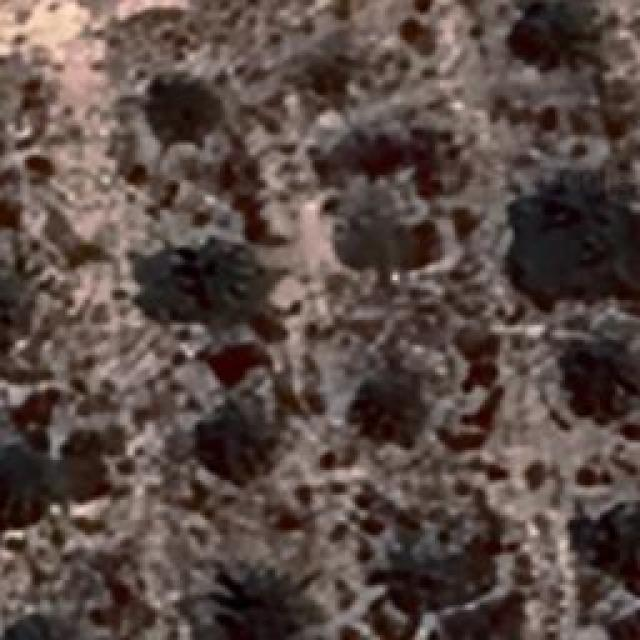PalmTree: (48, 28, 96, 626), (134, 224, 258, 326), (30, 85, 60, 491), (520, 204, 640, 304), (216, 562, 322, 640), (384, 535, 462, 603), (577, 513, 640, 596), (350, 372, 428, 438), (204, 402, 264, 486), (565, 321, 633, 389), (146, 68, 219, 124), (517, 0, 582, 62), (0, 258, 25, 352), (0, 620, 99, 640)
